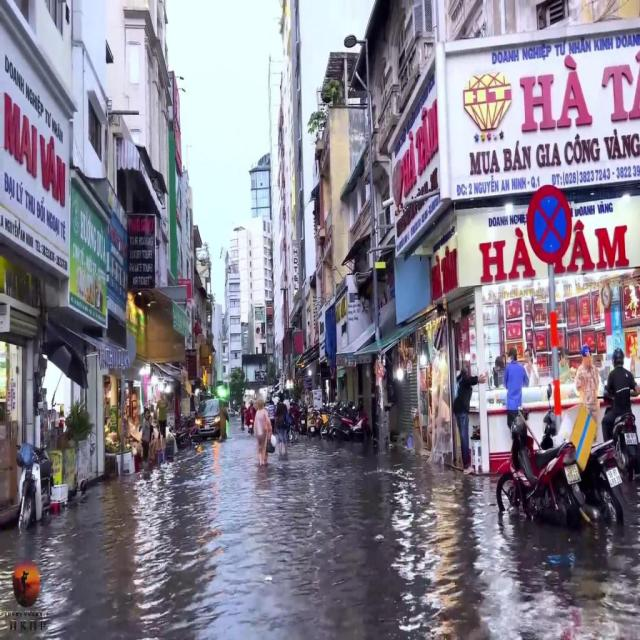cam_dung_xe_va_do_xe: (527, 183, 572, 264)
